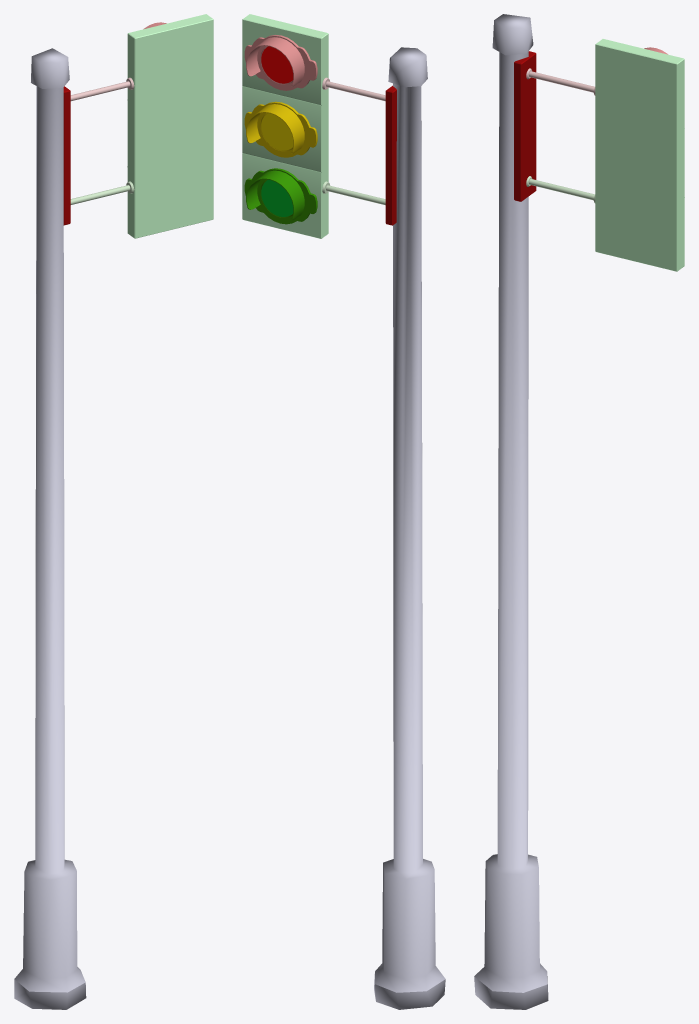
The model's file is StopLight.fbx.
3 views of the same model, side by side, from view 1: azimuth 30°, elevation 25°; view 2: azimuth 150°, elevation 25°; view 3: azimuth 330°, elevation 25° (orthographic). The views are drawn at different scales.
Parts seen in each view (by area): view 1: tab, light_tab, holder_right; view 2: tab, light_tab, light_yellow, light_red, light_green, holder_right; view 3: tab, light_tab, holder_right, holder_up, holder_down.
Boxes of the visible parts, box(x1,y1,x2,y2) form: tab: box(14, 48, 86, 1009); light_tab: box(127, 14, 213, 238); holder_right: box(63, 86, 70, 225); tab: box(374, 47, 445, 1009); light_tab: box(242, 14, 328, 238); light_yellow: box(244, 101, 317, 157); light_red: box(244, 35, 317, 90); light_green: box(244, 168, 317, 224); holder_right: box(385, 85, 396, 225); tab: box(474, 14, 548, 1009); light_tab: box(595, 39, 684, 271); holder_right: box(514, 51, 536, 201); holder_up: box(526, 68, 595, 95); holder_down: box(526, 176, 595, 203).
Size of the model in its own units: 108 by 509 by 36.08.
